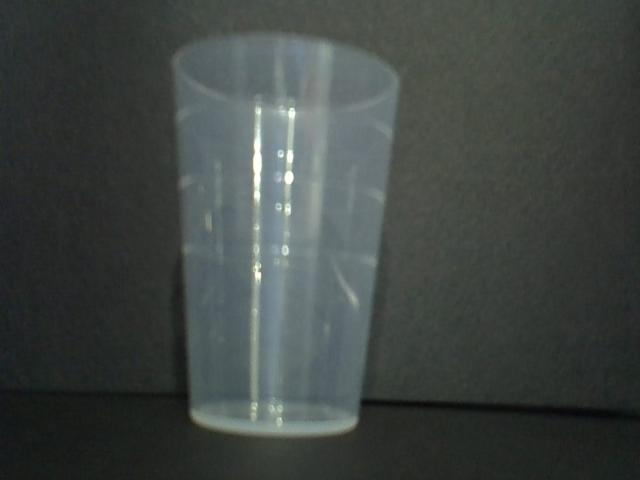cup: (168, 31, 402, 438)
